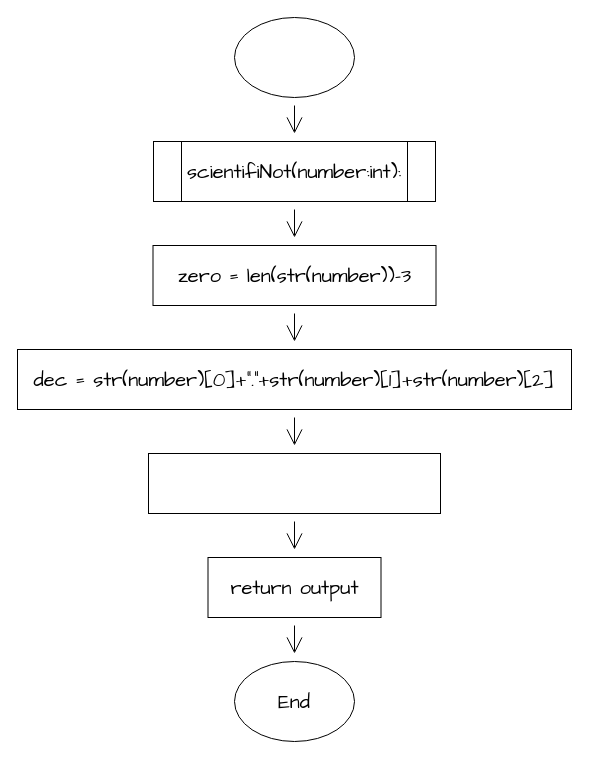
Some shapes in this 589 by 759 pixel diagram are drawn without their labels. The centre of each missing label's shape, as x and y in pixels:
output = dec+" * 1e"+zeros: (294,483)
Start: (294,57)
